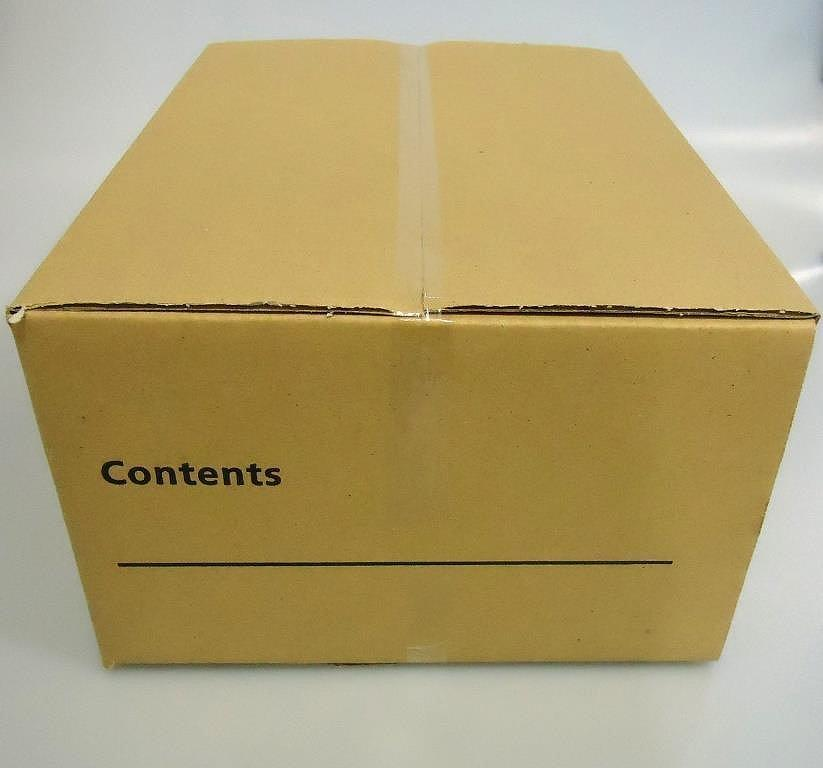box: (9, 33, 815, 669)
